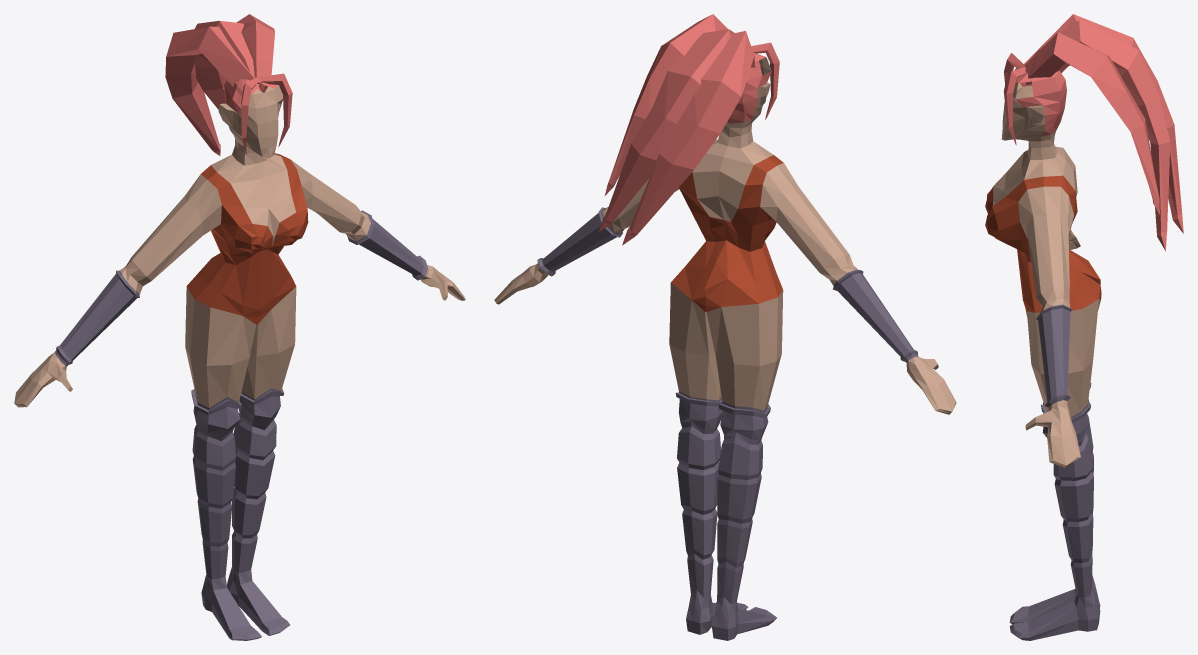
Rendered from rpg22.glb.
The picture shows the model from 3 angles, left to right: view 1: azimuth 30°, elevation 25°; view 2: azimuth 150°, elevation 25°; view 3: azimuth 270°, elevation 25°; orthographic projection. The views are drawn at different scales.
Visible parts, largest first — view 1: imagetostl_mesh0, imagetostl_mesh2, imagetostl_mesh3, imagetostl_mesh1; view 2: imagetostl_mesh0, imagetostl_mesh2, imagetostl_mesh3, imagetostl_mesh1; view 3: imagetostl_mesh0, imagetostl_mesh3, imagetostl_mesh2, imagetostl_mesh1.
Boxes of the visible parts, x1,y1,x2,y2 form: imagetostl_mesh0: (14, 85, 465, 407); imagetostl_mesh2: (54, 210, 427, 640); imagetostl_mesh3: (165, 14, 292, 155); imagetostl_mesh1: (187, 153, 308, 324); imagetostl_mesh0: (494, 57, 956, 414); imagetostl_mesh2: (537, 207, 918, 640); imagetostl_mesh3: (598, 14, 779, 245); imagetostl_mesh1: (671, 155, 783, 312); imagetostl_mesh0: (992, 82, 1100, 468); imagetostl_mesh3: (1003, 14, 1183, 251); imagetostl_mesh2: (1009, 304, 1100, 640); imagetostl_mesh1: (985, 175, 1101, 315).
Bounding box in the file's own units: 9.89 × 12.63 × 3.77.
